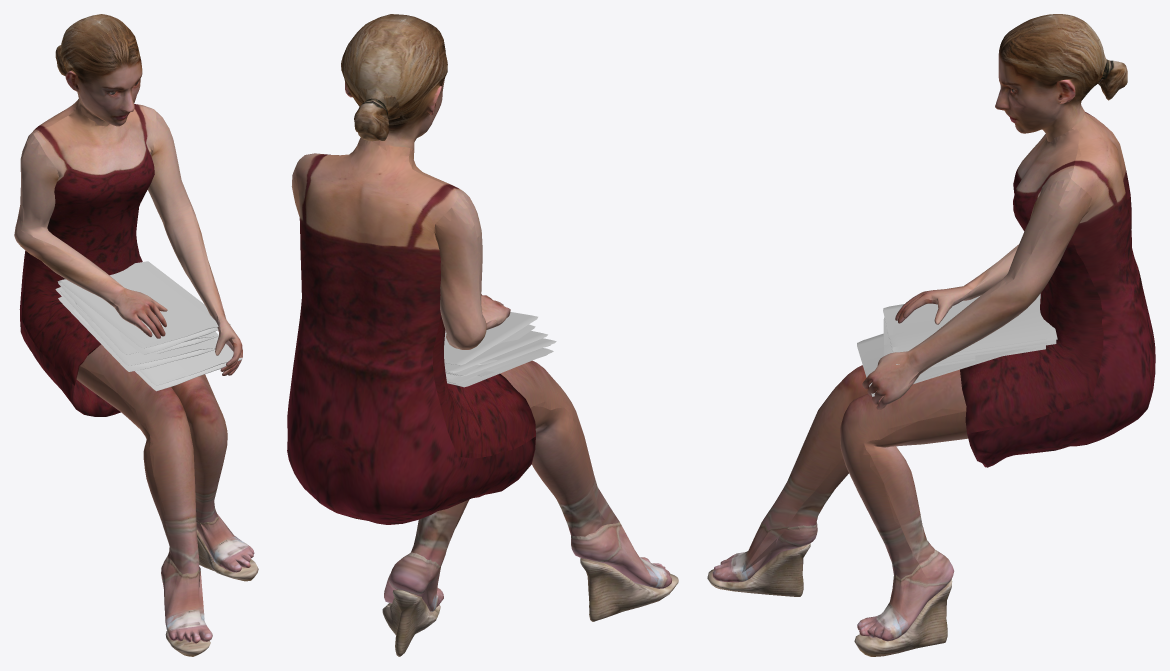
File: Female.FBX
The picture shows the model from 3 angles, left to right: view 1: azimuth 30°, elevation 25°; view 2: azimuth 150°, elevation 25°; view 3: azimuth 270°, elevation 25°; orthographic projection. The views are drawn at different scales.
Parts seen in each view (by area): view 1: BWom0006-S, Group01; view 2: BWom0006-S, Group01; view 3: BWom0006-S, Group01.
Part boxes in pixels (left/top/right/bottom): BWom0006-S: left=14, top=14, right=258, bottom=656; Group01: left=55, top=261, right=242, bottom=391; BWom0006-S: left=287, top=14, right=678, bottom=656; Group01: left=444, top=312, right=556, bottom=387; BWom0006-S: left=707, top=14, right=1155, bottom=656; Group01: left=857, top=293, right=1057, bottom=396.
Size of the model in its own units: 0.3922 by 0.8546 by 1.26.
